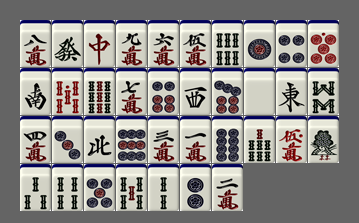0m: (276, 116, 307, 163)
0p: (308, 20, 339, 67)
0s: (52, 68, 83, 115)
1m: (180, 116, 211, 163)
1p: (244, 20, 275, 67)
1s: (308, 116, 339, 163)
1z: (276, 68, 307, 115)
2m: (212, 164, 243, 211)
2p: (180, 164, 211, 211)
2s: (148, 164, 179, 211)
2z: (20, 68, 51, 115)
3m: (148, 116, 179, 163)
3p: (52, 116, 83, 163)
3s: (20, 164, 51, 211)
3z: (180, 68, 211, 115)
4m: (20, 116, 51, 163)
4p: (276, 20, 307, 67)
4s: (52, 164, 83, 211)
4z: (84, 116, 115, 163)
5m: (180, 20, 211, 67)
5p: (84, 164, 115, 211)
5s: (116, 164, 147, 211)
5z: (244, 68, 275, 115)
6m: (148, 20, 179, 67)
6p: (148, 68, 179, 115)
6s: (212, 20, 243, 67)
6z: (52, 20, 83, 67)
7m: (116, 68, 147, 115)
7p: (212, 68, 243, 115)
7s: (244, 116, 275, 163)
7z: (84, 20, 115, 67)
8m: (20, 20, 51, 67)
8p: (212, 116, 243, 163)
8s: (308, 68, 339, 115)
9m: (116, 20, 147, 67)
9p: (116, 116, 147, 163)
9s: (84, 68, 115, 115)
